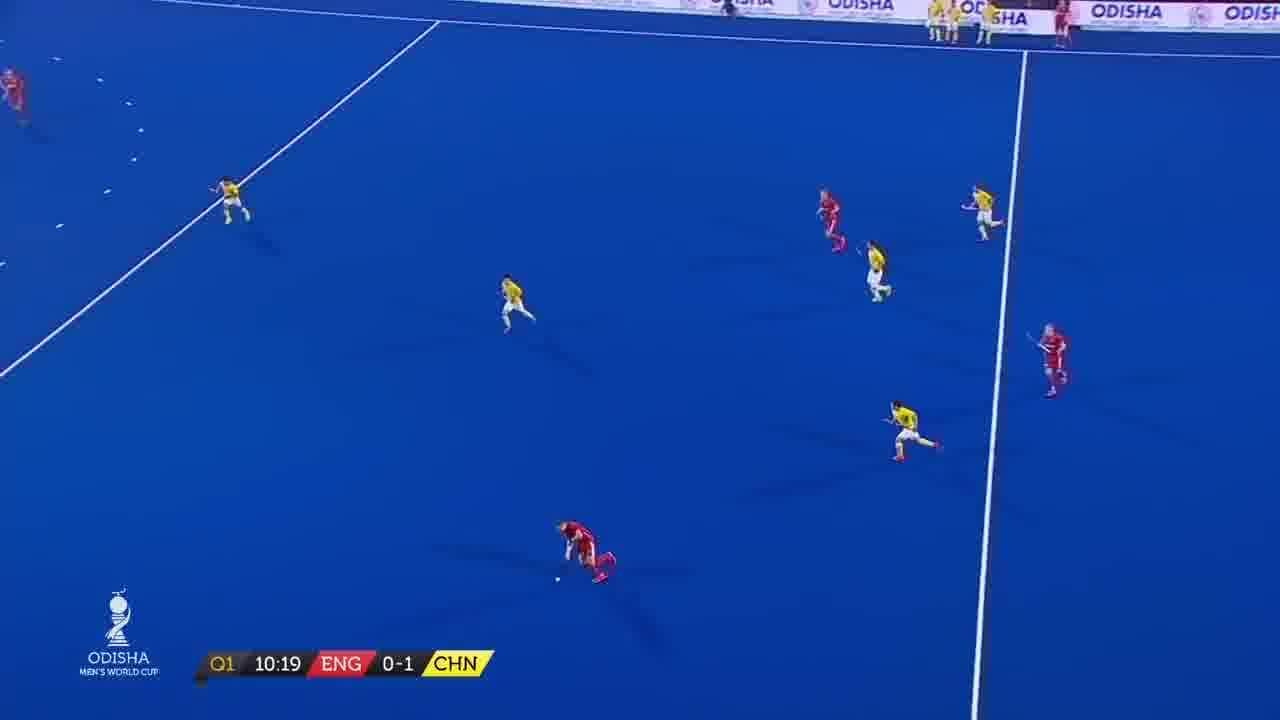ball: (553, 573, 563, 588)
